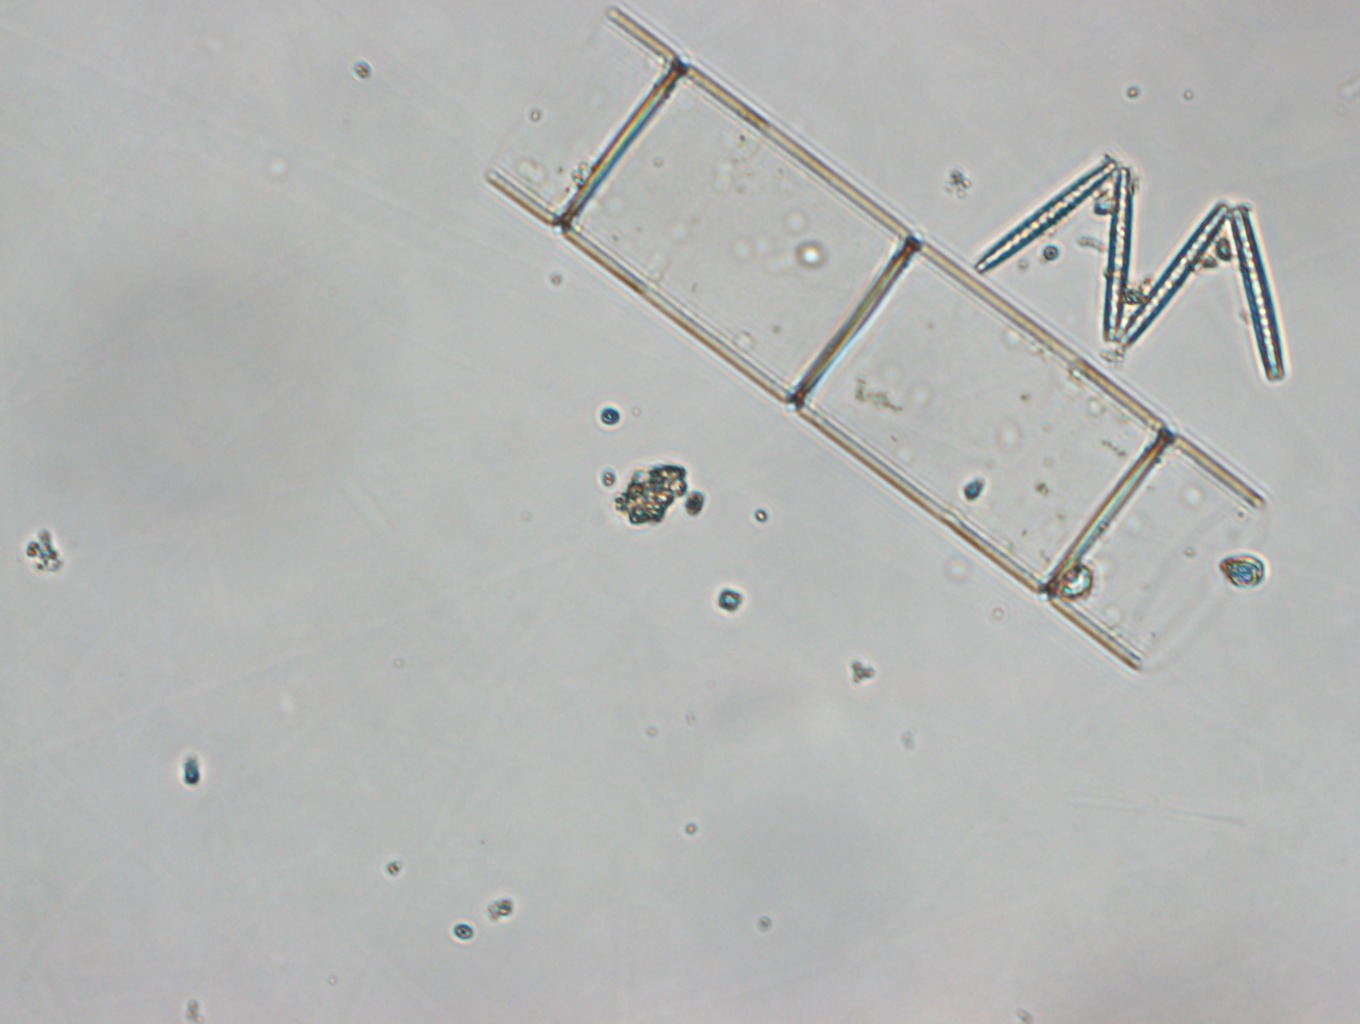guinardia flaccida: (492, 8, 1266, 686)
thalassionema nitzschioides: (968, 143, 1285, 396)
